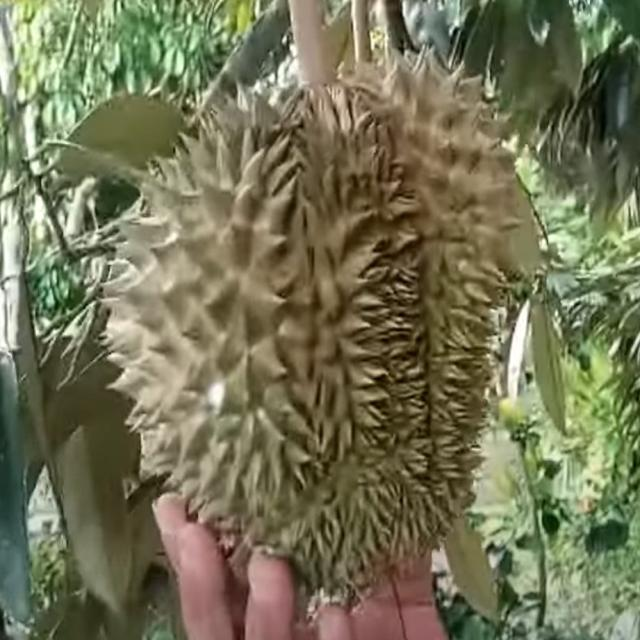immature: (90, 62, 508, 587)
